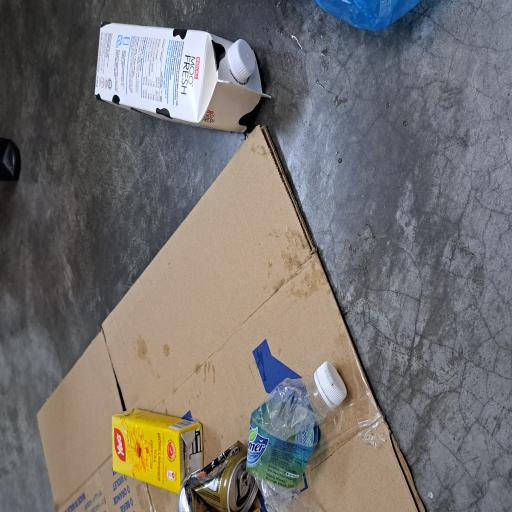can: (0, 238, 53, 359)
cardboard: (0, 49, 292, 512)
drink carton: (285, 123, 367, 362), (16, 150, 78, 269)
plastic bottle: (0, 327, 113, 467)
plastic bottle cap: (79, 416, 111, 464), (326, 306, 354, 342)
